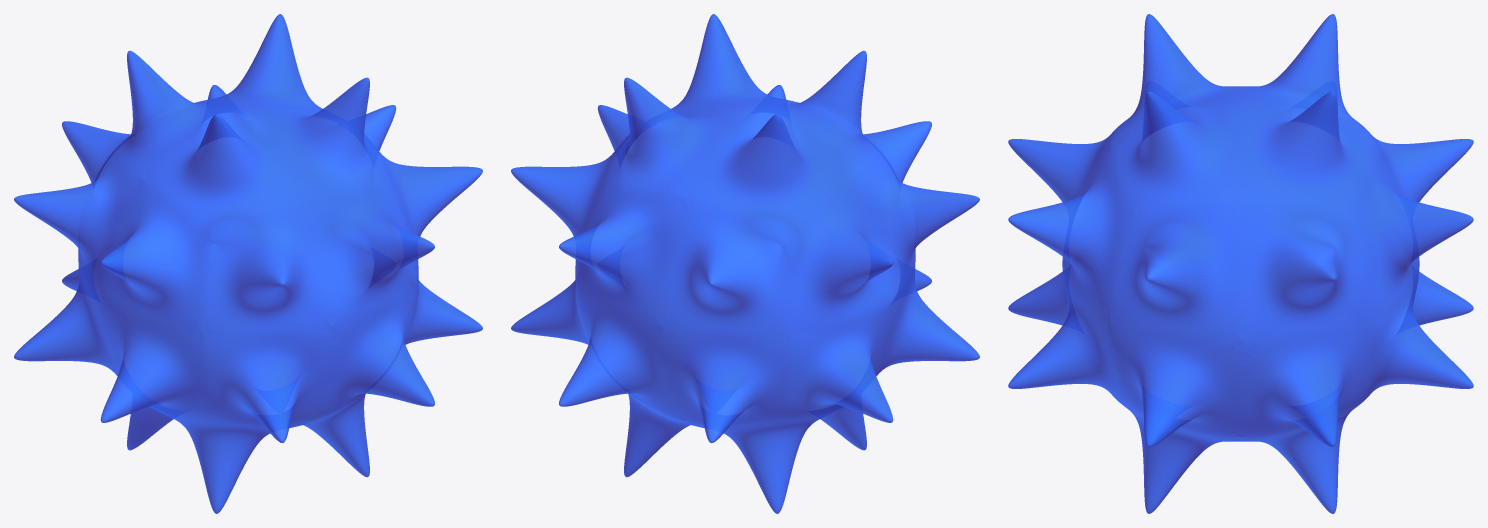
Rendered from blue virus.fbx.
The picture shows the model from 3 angles, left to right: view 1: azimuth 30°, elevation 25°; view 2: azimuth 150°, elevation 25°; view 3: azimuth 270°, elevation 25°; orthographic projection. The views are drawn at different scales.
Parts seen in each view (by area): view 1: Cube; view 2: Cube; view 3: Cube.
Part boxes in pixels (x1,y1,x2,y2): Cube: (14,14,482,513); Cube: (511,14,979,513); Cube: (1008,14,1473,513).
Size of the model in its own units: 449 by 449 by 449.
